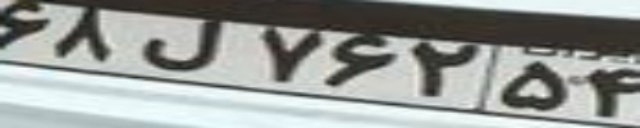2: (411, 39, 478, 97)
4: (586, 65, 638, 118)
5: (500, 59, 570, 111)
6: (324, 31, 392, 89), (0, 2, 48, 58)
7: (256, 25, 321, 84)
8: (54, 4, 108, 61)
lam: (141, 18, 222, 71)
